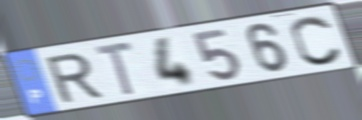4: (152, 34, 199, 88)
5: (189, 25, 245, 83)
6: (245, 21, 291, 74)
C: (289, 14, 345, 67)
R: (42, 51, 106, 106)
T: (92, 39, 137, 99)
